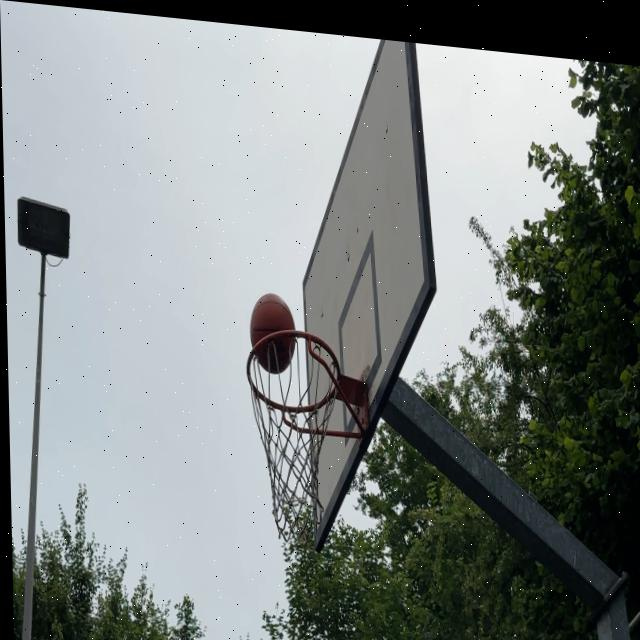rebound_hit: (250, 290, 297, 377)
